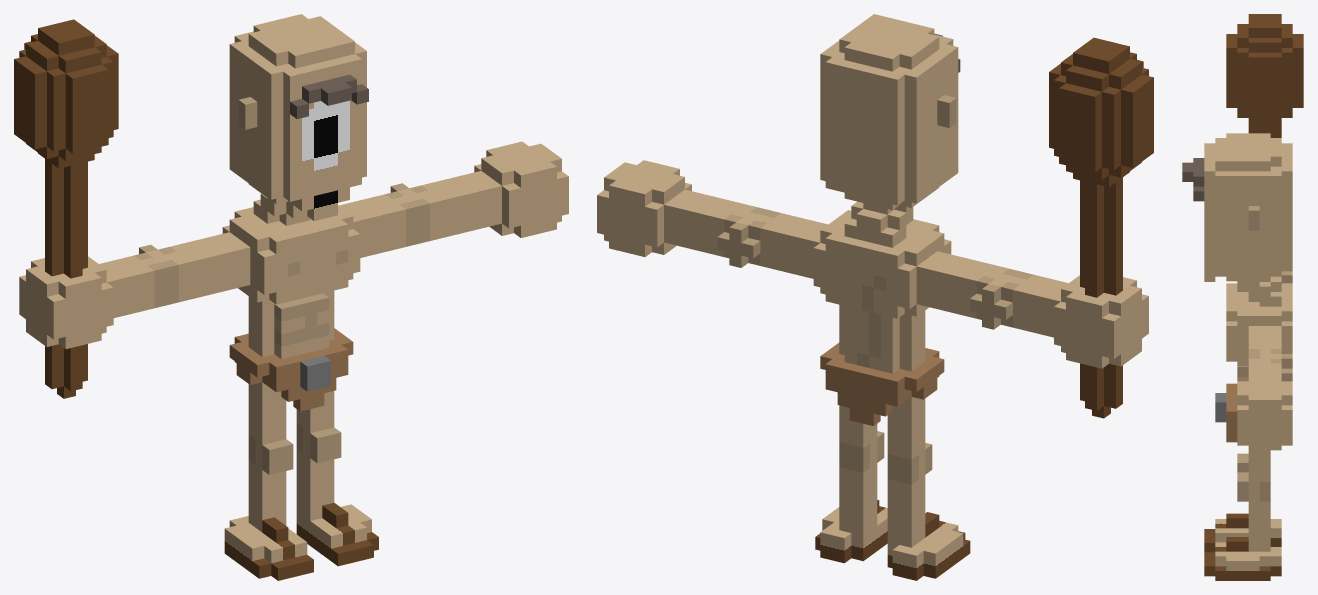
Rendered from Cyclops.dae.
The picture shows the model from 3 angles, left to right: view 1: azimuth 30°, elevation 25°; view 2: azimuth 150°, elevation 25°; view 3: azimuth 270°, elevation 25°; orthographic projection. The views are drawn at different scales.
Parts seen in each view (by area): view 1: HandRight-local, Head-local, Chest-local, HandLeft-local, UpperArmRight-local, Hips-local, UpperArmLeft-local, Stomach-local, FootRight-local, FootLeft-local, LowerArmLeft-local, UpperLegRight-local (+5 smaller); view 2: HandRight-local, Head-local, Chest-local, HandLeft-local, UpperArmRight-local, UpperArmLeft-local, Hips-local, Stomach-local, LowerArmLeft-local, FootRight-local, UpperLegRight-local, LowerLegLeft-local (+5 smaller); view 3: Head-local, HandRight-local, HandLeft-local, Chest-local, FootLeft-local, UpperArmLeft-local, UpperLegLeft-local, FootRight-local, LowerLegLeft-local, Hips-local, Neck-local, LowerArmLeft-local (+2 smaller).
Boxes of the visible parts, x1,y1,x2,y2 form: HandRight-local: [14, 19, 118, 398]; Head-local: [229, 14, 368, 220]; Chest-local: [222, 205, 360, 304]; HandLeft-local: [474, 141, 568, 237]; UpperArmRight-local: [134, 232, 250, 307]; Hips-local: [229, 328, 353, 411]; UpperArmLeft-local: [339, 183, 442, 257]; Stomach-local: [248, 290, 334, 359]; FootRight-local: [224, 516, 313, 580]; FootLeft-local: [296, 502, 378, 566]; LowerArmLeft-local: [422, 171, 501, 237]; UpperLegRight-local: [248, 382, 293, 474]; HandRight-local: [1049, 37, 1153, 418]; Head-local: [820, 14, 960, 209]; Chest-local: [813, 210, 951, 318]; HandLeft-local: [597, 160, 691, 256]; UpperArmRight-local: [916, 251, 1033, 329]; UpperArmLeft-local: [717, 204, 827, 278]; Hips-local: [820, 342, 944, 425]; Stomach-local: [839, 304, 925, 373]; LowerArmLeft-local: [664, 189, 744, 256]; FootRight-local: [887, 512, 970, 580]; UpperLegRight-local: [887, 397, 932, 484]; LowerLegLeft-local: [839, 463, 877, 535]; Head-local: [1182, 133, 1292, 281]; HandRight-local: [1226, 14, 1303, 137]; HandLeft-local: [1237, 376, 1292, 450]; Chest-local: [1226, 283, 1292, 366]; FootLeft-local: [1204, 537, 1281, 580]; UpperArmLeft-local: [1248, 326, 1292, 381]; UpperLegLeft-local: [1237, 450, 1270, 501]; FootRight-local: [1204, 513, 1281, 552]; LowerLegLeft-local: [1248, 501, 1270, 551]; Hips-local: [1215, 383, 1237, 442]; Neck-local: [1237, 276, 1281, 306]; LowerArmLeft-local: [1248, 363, 1281, 376].
Size of the model in its own units: 44 by 45 by 11.
